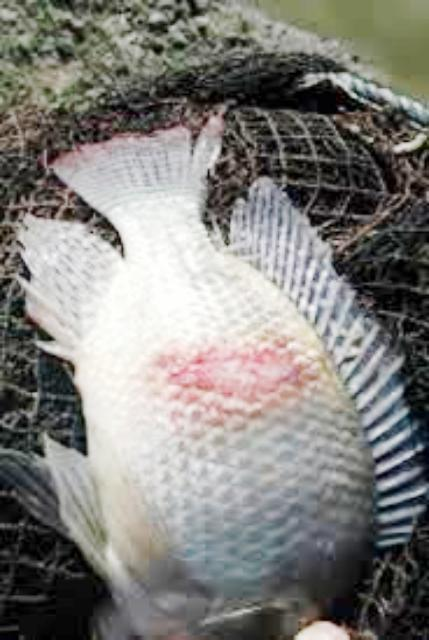Tilapia Lake Virus -TiLV-: (20, 116, 422, 639)
